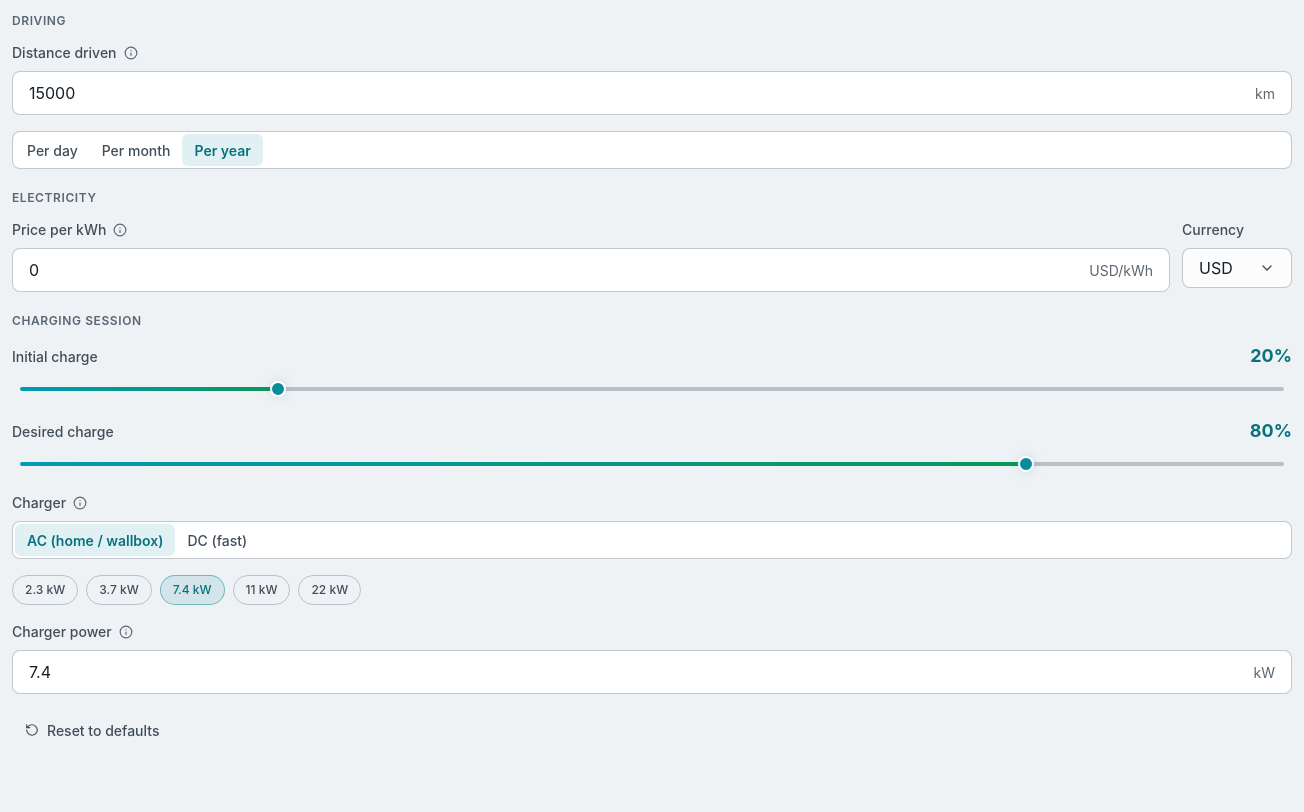
Test case: UsageProfileForm › switches charger type and applies the default power
Click the radio button labelled "DC (fast)" at (217,540), box [176,524,259,556]
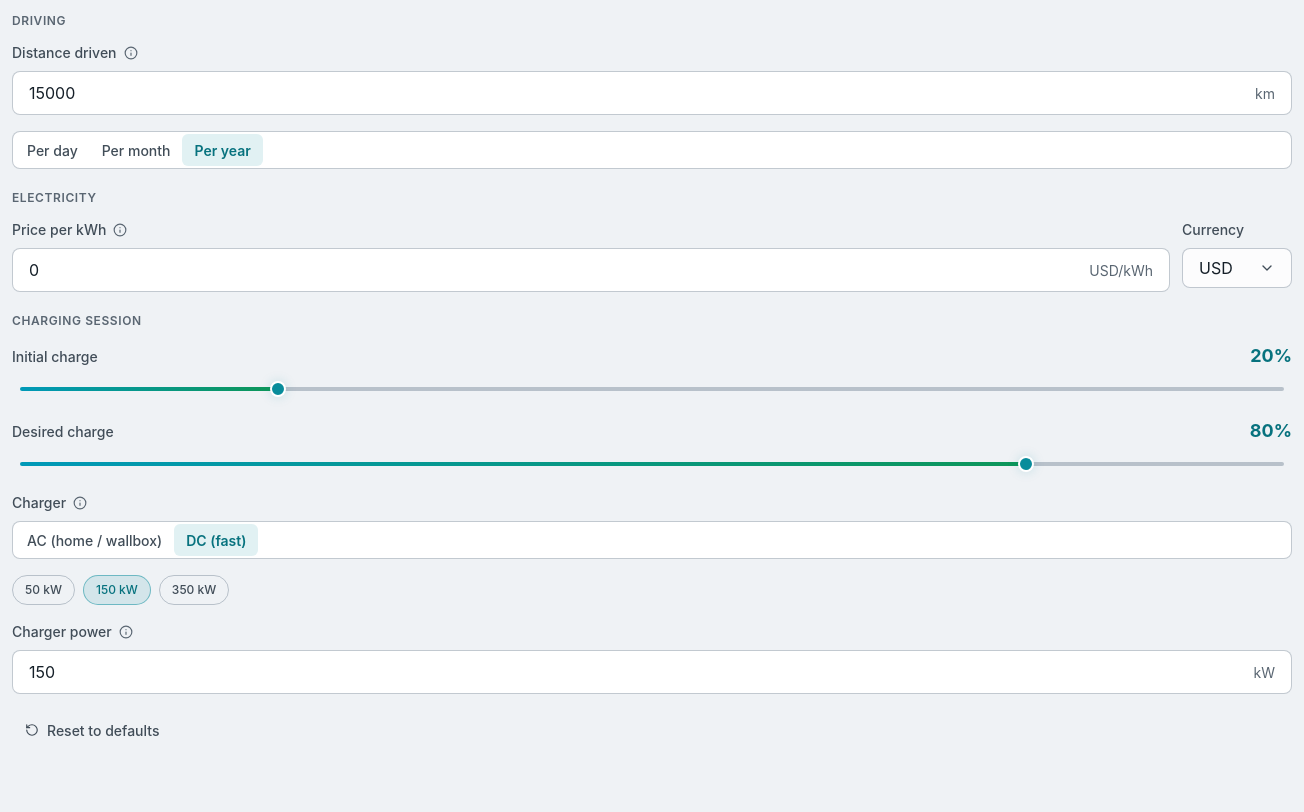
Expected: the number field labelled "Charger power" holds "150", [13,651,1254,693]
